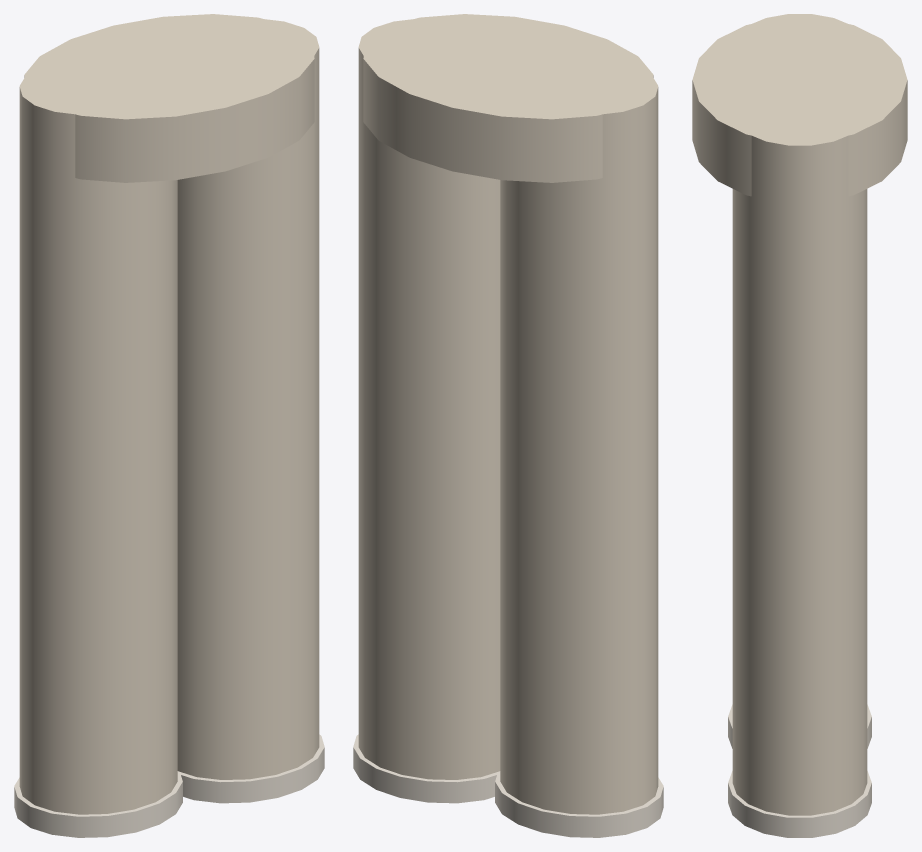
File: VM-CAB-003.glb
3 renders of one model, left to right at view 1: azimuth 30°, elevation 25°; view 2: azimuth 150°, elevation 25°; view 3: azimuth 270°, elevation 25°, orthographic. The views are drawn at different scales.
Visible parts, largest first — view 1: Pantalón Chino Beige; view 2: Pantalón Chino Beige; view 3: Pantalón Chino Beige.
Boxes of the visible parts, x1,y1,x2,y2 form: Pantalón Chino Beige: (14,14,324,837); Pantalón Chino Beige: (353,14,663,837); Pantalón Chino Beige: (692,14,907,837).
Bounding box in the file's own units: 0.4515 × 1.07 × 0.302.
